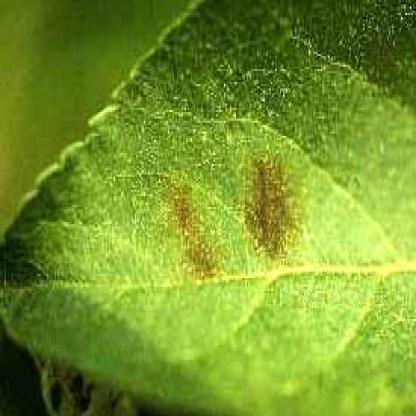apple scab leaf: (8, 4, 414, 410)
